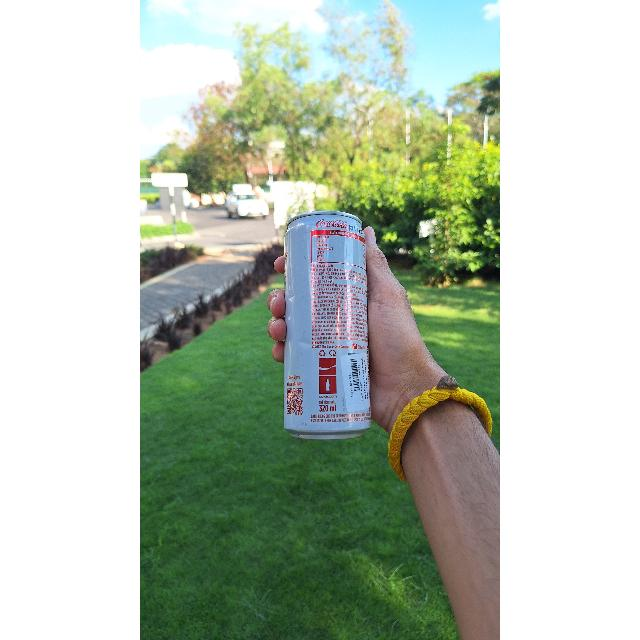Coca Cola Plus: (274, 210, 381, 444)
